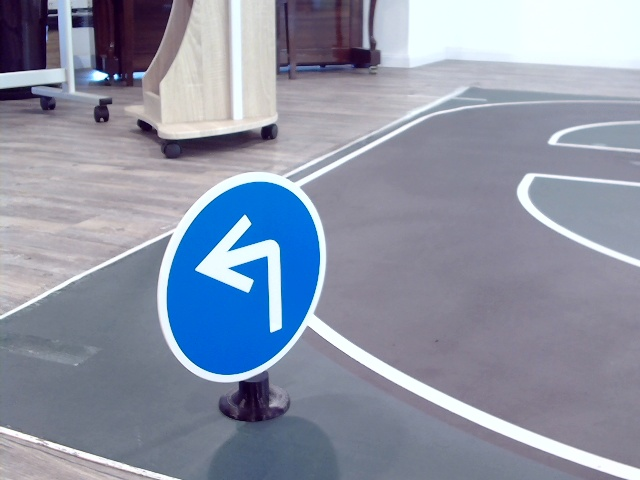turn_left: (196, 215, 292, 335)
